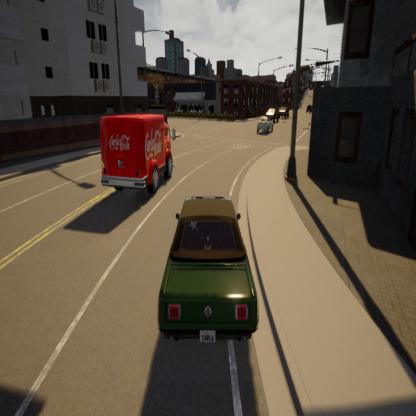Cars: (149, 181, 261, 348), (95, 105, 176, 202), (257, 115, 275, 140), (266, 105, 284, 127), (280, 104, 289, 120)
